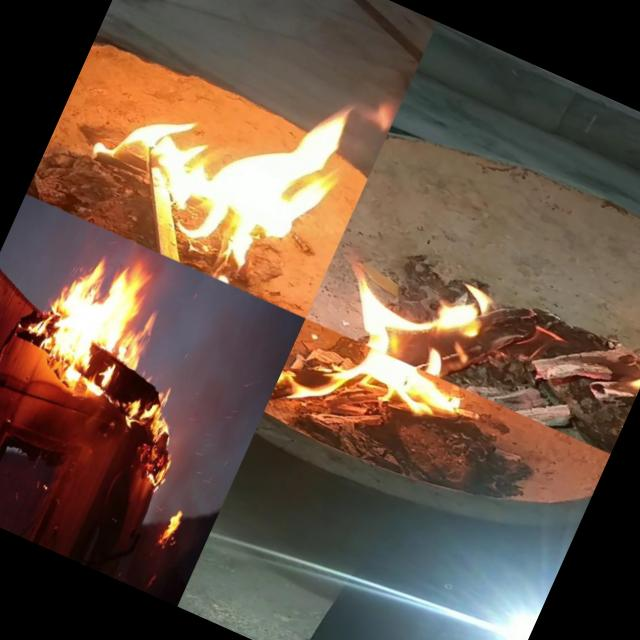fire: (67, 0, 407, 314), (272, 318, 468, 466), (333, 234, 514, 393), (17, 235, 177, 414), (605, 265, 640, 398), (114, 369, 175, 437), (134, 416, 189, 491), (147, 494, 195, 565)
